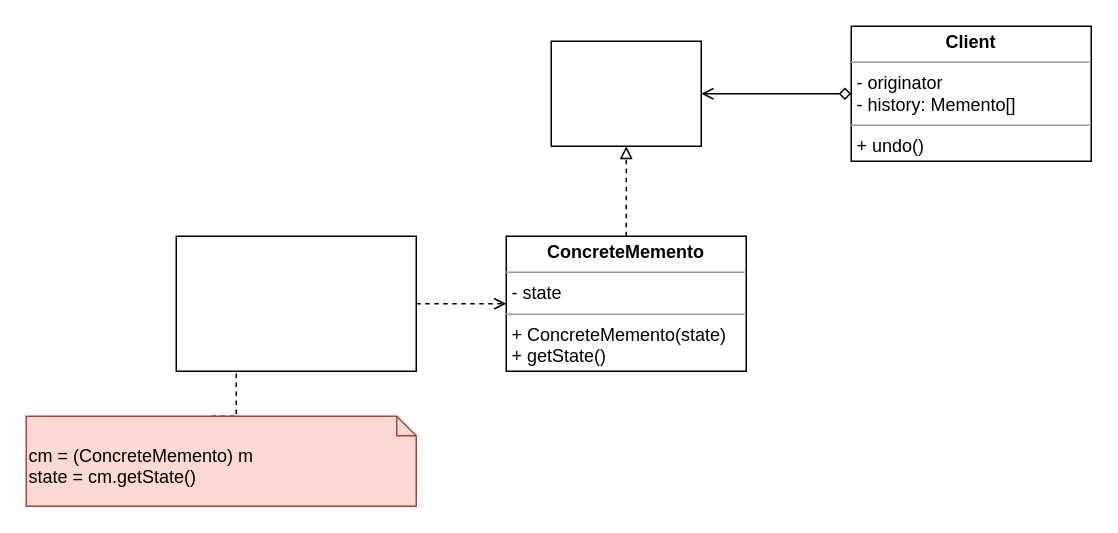
Image size: 1118x533. Some labels were removed from this diagram. Each missing label, with the centre of its shape:
<<Interface>> Memento: pixel 625 93
Originator - state + save(): Memento + restore(m: Memento): pixel 295 303
